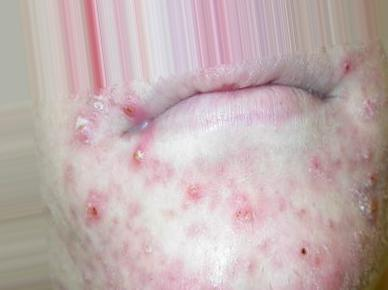Acne: (356, 169, 388, 226), (223, 195, 267, 232), (68, 111, 108, 150), (125, 131, 158, 170), (308, 253, 343, 284), (74, 201, 114, 227), (174, 181, 207, 210), (356, 100, 387, 129), (335, 53, 370, 76)
